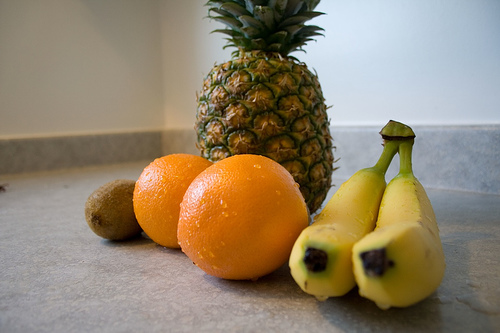pineapple: (193, 0, 338, 221)
